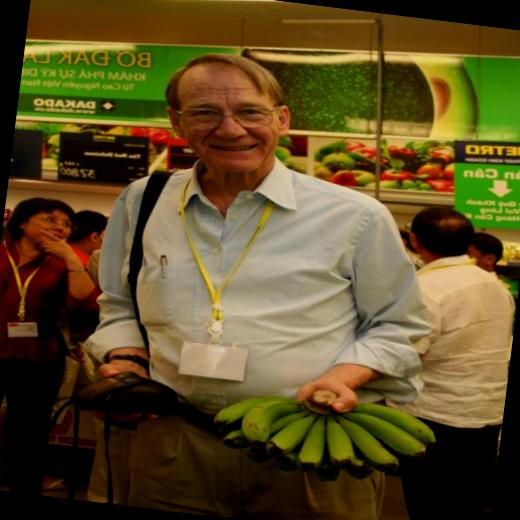Banana: (207, 370, 439, 490)
